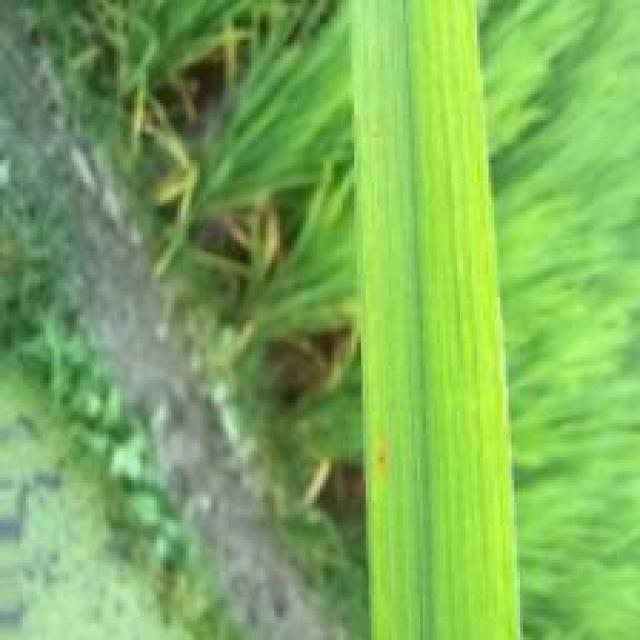HealthyLeaf: (395, 1, 457, 639)
